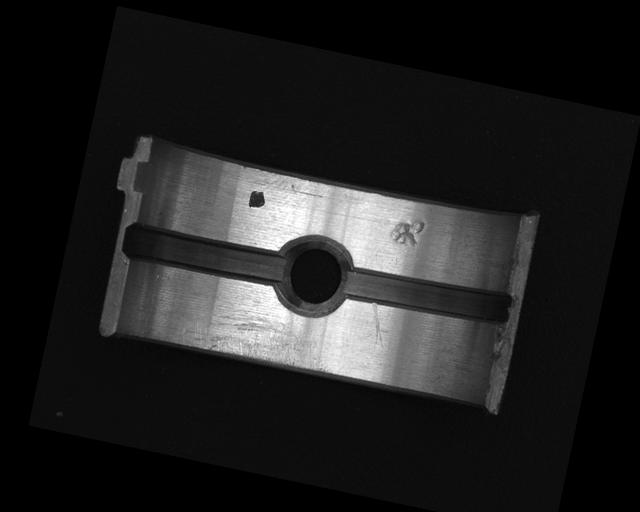blot: (246, 188, 267, 210)
bruise: (388, 214, 426, 248)
gap: (337, 255, 515, 333), (119, 219, 288, 291)
hole: (269, 229, 359, 322)
nick: (360, 301, 393, 355)
scratch: (176, 295, 338, 378)
